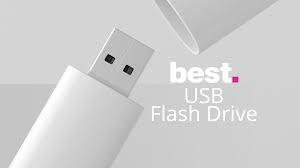Flash-drive: (4, 20, 193, 168)
